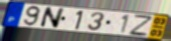1: (74, 10, 85, 31), (120, 14, 130, 34)
3: (86, 11, 106, 32)
9: (22, 5, 43, 27)
N: (39, 6, 66, 29)
Z: (127, 13, 154, 38)
